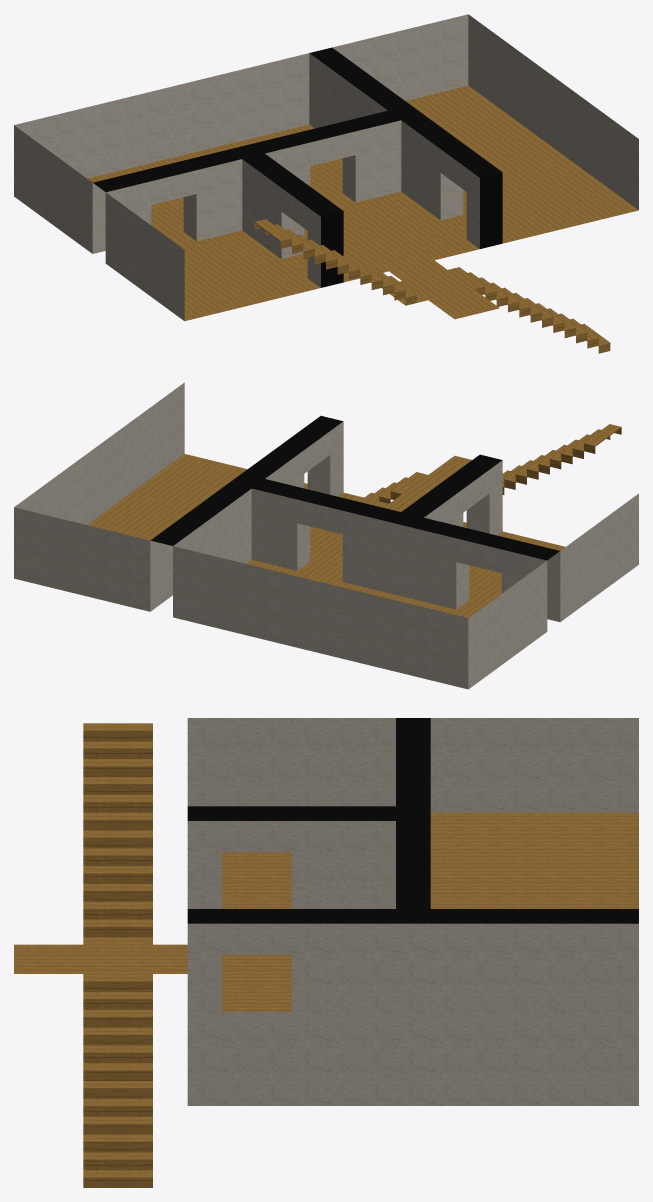
Rendered from interior.glb.
3 views of the same model, one above another, from view 1: azimuth 30°, elevation 25°; view 2: azimuth 150°, elevation 25°; view 3: azimuth 270°, elevation 25° (orthographic). The views are drawn at different scales.
Visible parts, largest first — view 1: room3_walls-col, room4_walls-col, room2_walls-col, room4_floor-col, interior-col, room1_walls-col, interior-walls-col, room2_floor-col, room1_floor-col, room3_floor-col, Stairs.003, Stairs.001; view 2: room3_walls-col, interior-walls-col, room4_walls-col, room2_walls-col, interior-col, room4_floor-col, room1_walls-col, Stairs.003, room1_floor-col, room2_floor-col, room3_floor-col, Stairs.001; view 3: room4_walls-col, room3_floor-col, room3_walls-col, room2_walls-col, Stairs.003, Stairs.001, room1_walls-col, interior-col, interior-walls-col, room1_floor-col, room2_floor-col.
Part boxes in pixels (box(x1,y1,x2,y2)): room3_walls-col: box(14, 53, 387, 253); room4_walls-col: box(332, 14, 638, 209); room2_walls-col: box(105, 159, 320, 320); room4_floor-col: box(405, 85, 638, 243); interior-col: box(166, 47, 502, 319); room1_walls-col: box(265, 120, 479, 248); interior-walls-col: box(92, 110, 400, 287); room2_floor-col: box(179, 230, 320, 320); room1_floor-col: box(304, 191, 479, 282); room3_floor-col: box(87, 124, 342, 235); Stairs.003: box(254, 219, 417, 305); Stairs.001: box(448, 267, 610, 353); room3_walls-col: box(173, 489, 547, 689); interior-walls-col: box(251, 454, 559, 609); room4_walls-col: box(14, 382, 184, 611); room2_walls-col: box(424, 460, 638, 621); interior-col: box(150, 416, 486, 613); room4_floor-col: box(87, 454, 307, 540); room1_walls-col: box(265, 421, 343, 496); Stairs.003: box(502, 424, 621, 494); room1_floor-col: box(310, 492, 466, 568); room2_floor-col: box(469, 531, 565, 604); room3_floor-col: box(246, 560, 473, 617); Stairs.001: box(364, 472, 427, 503); room4_walls-col: box(187, 923, 638, 1105); room3_floor-col: box(430, 812, 638, 908); room3_walls-col: box(430, 718, 638, 812); room2_walls-col: box(187, 718, 395, 806); Stairs.003: box(83, 723, 152, 937); Stairs.001: box(83, 974, 152, 1187); room1_walls-col: box(187, 821, 395, 908); interior-col: box(14, 900, 638, 1011); interior-walls-col: box(187, 718, 430, 908); room1_floor-col: box(222, 955, 291, 1003); room2_floor-col: box(222, 852, 291, 900).
Size of what is drawn, in the model's own units: 20 by 8 by 18.
Materials: 4 (3 with a texture image).
